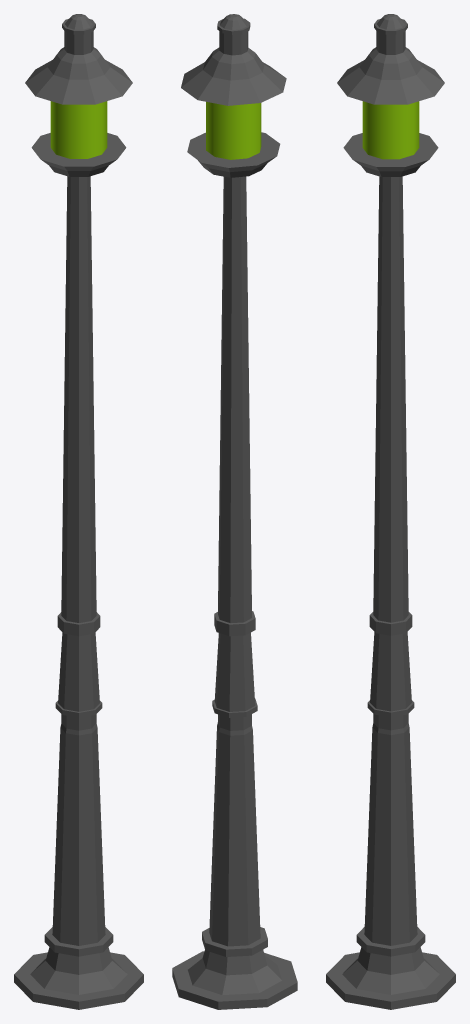
Rendered from SM_lantern_park_02.fbx.
3 views of the same model, side by side, from view 1: azimuth 90°, elevation 25°; view 2: azimuth 210°, elevation 25°; view 3: azimuth 270°, elevation 25° (orthographic).
Parts seen in each view (by area): view 1: Cylinder114; view 2: Cylinder114; view 3: Cylinder114.
Boxes of the visible parts, x1,y1,x2,y2 form: Cylinder114: (14,14,143,1009); Cylinder114: (172,14,297,1009); Cylinder114: (326,14,455,1009).
Bounding box in the file's own units: 21.09 × 173 × 21.09.
